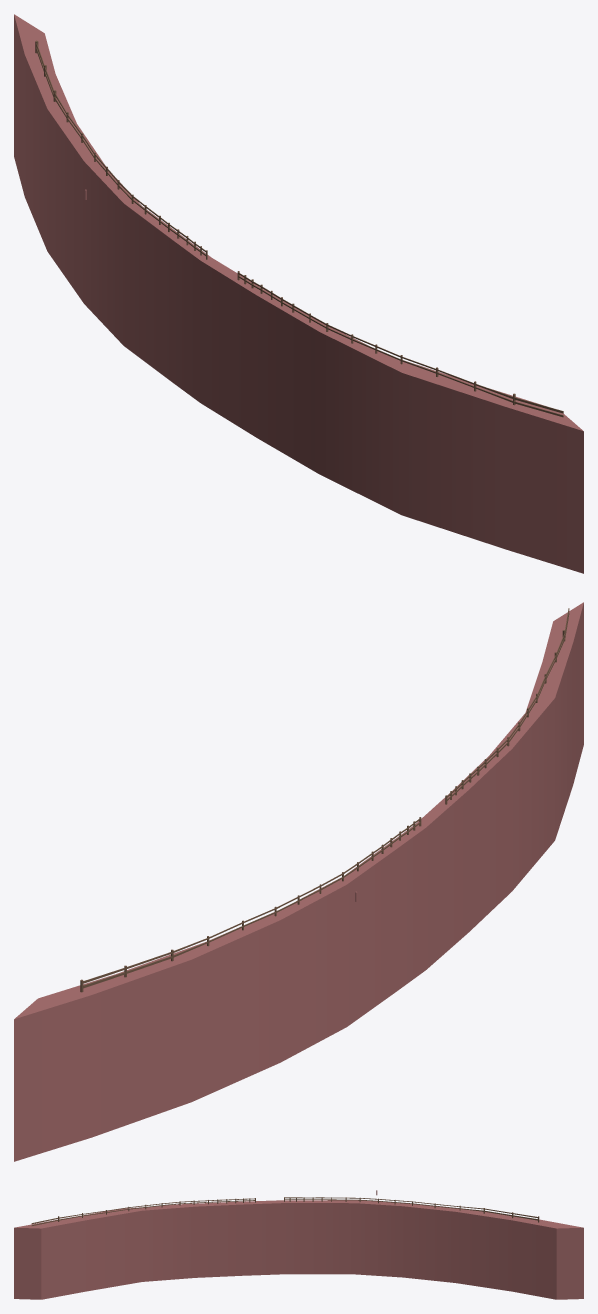
The model's file is Wall With Color.fbx.
The picture shows the model from 3 angles, top to bottom: view 1: azimuth 30°, elevation 25°; view 2: azimuth 150°, elevation 25°; view 3: azimuth 270°, elevation 25°; orthographic projection. The views are drawn at different scales.
Parts seen in each view (by area): view 1: Wall, Fence; view 2: Wall, Fence; view 3: Wall, Fence.
Boxes of the visible parts, left/top/right/bottom form: Wall: left=14, top=14, right=583, bottom=573; Fence: left=35, top=40, right=563, bottom=417; Wall: left=14, top=602, right=583, bottom=1161; Fence: left=80, top=608, right=569, bottom=992; Wall: left=14, top=1200, right=583, bottom=1299; Fence: left=31, top=1197, right=539, bottom=1225.
Bounding box in the file's own units: 9.66 × 10.18 × 68.31.
